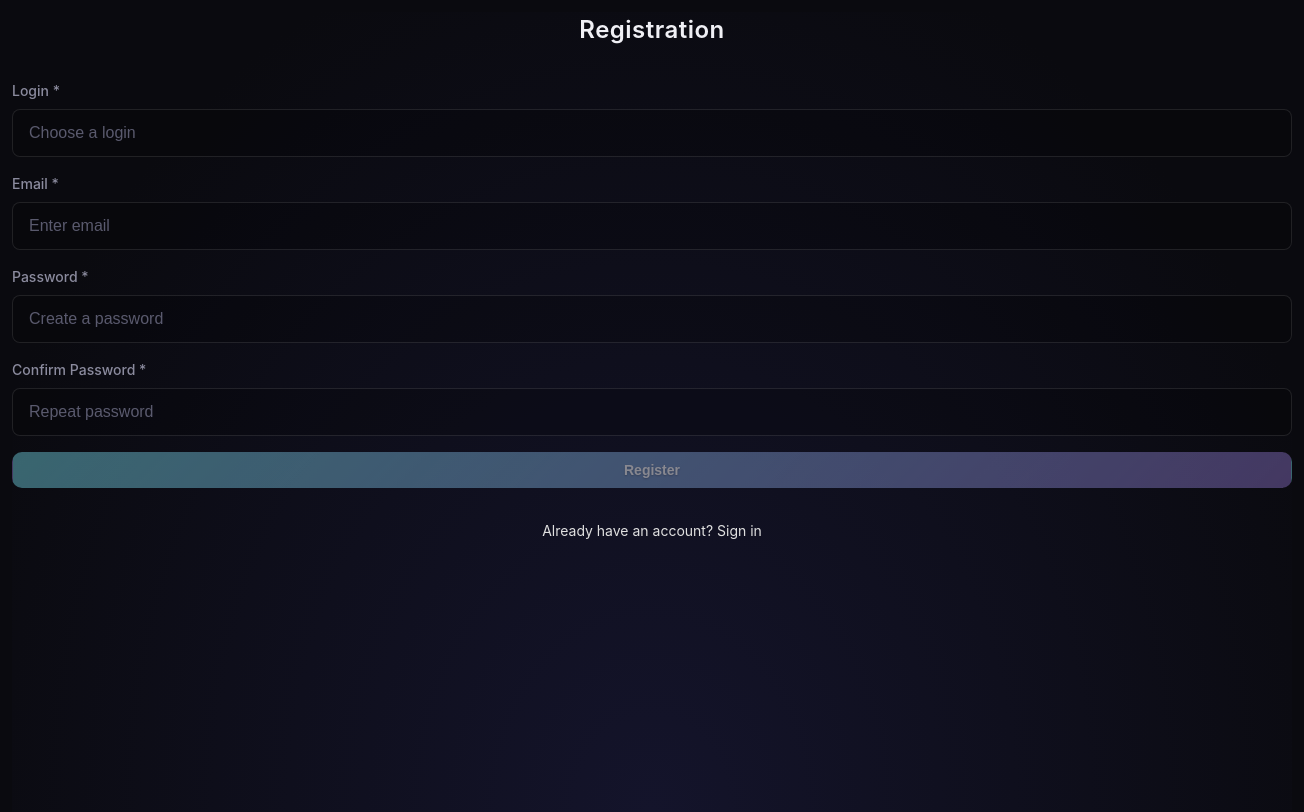
Scenario: RegisterForm › shows password requirements when password is entered
Type "weak" into the password field labelled "Password *". click: (652, 319)
box: [12,295,1292,343]
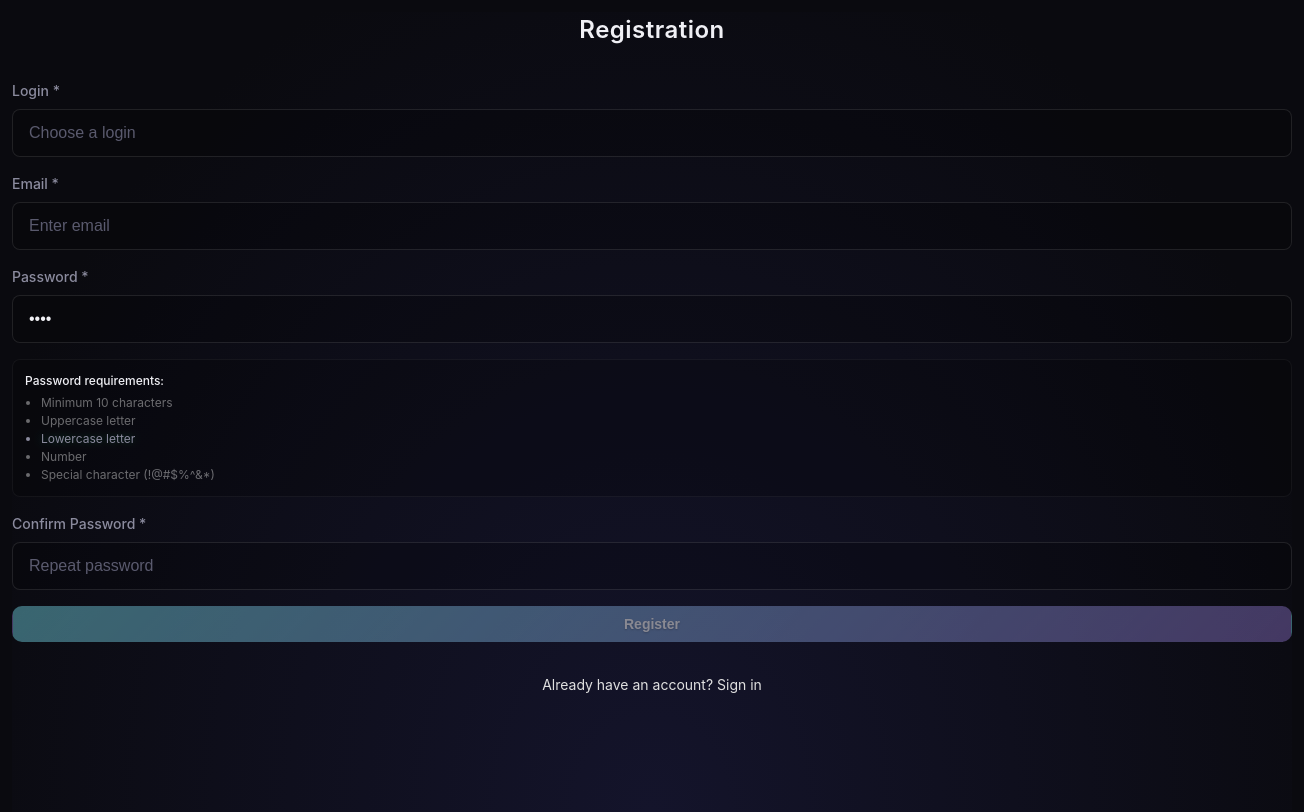
Expected: the text "Password requirements:" is shown, [25,373,164,388]
Expected: the list item "Minimum 10 characters" is shown, [41,395,172,410]
Expected: the list item "Uppercase letter" is shown, [41,413,136,428]
